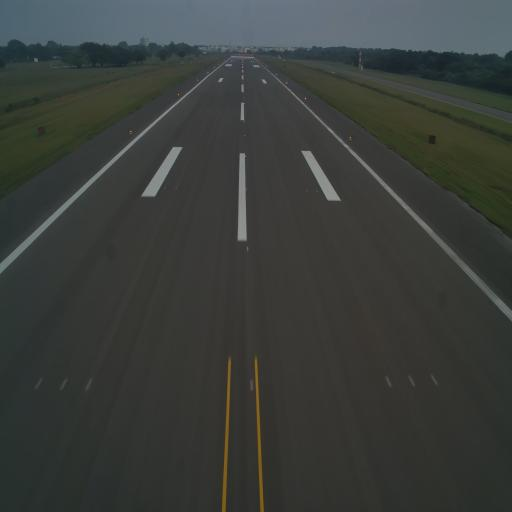off: (56, 371, 71, 398), (404, 366, 416, 396), (31, 371, 45, 396), (82, 372, 94, 400), (427, 369, 441, 392), (384, 367, 396, 393), (314, 186, 320, 196), (174, 184, 179, 192), (163, 184, 167, 192), (305, 186, 309, 194), (288, 133, 292, 141), (184, 130, 188, 137), (296, 134, 300, 141), (192, 130, 196, 136), (281, 134, 285, 140), (199, 131, 202, 137)
on: (246, 371, 257, 400), (244, 240, 252, 259), (348, 134, 354, 143), (244, 183, 248, 194), (128, 128, 134, 134), (243, 152, 247, 158), (243, 132, 247, 138)
